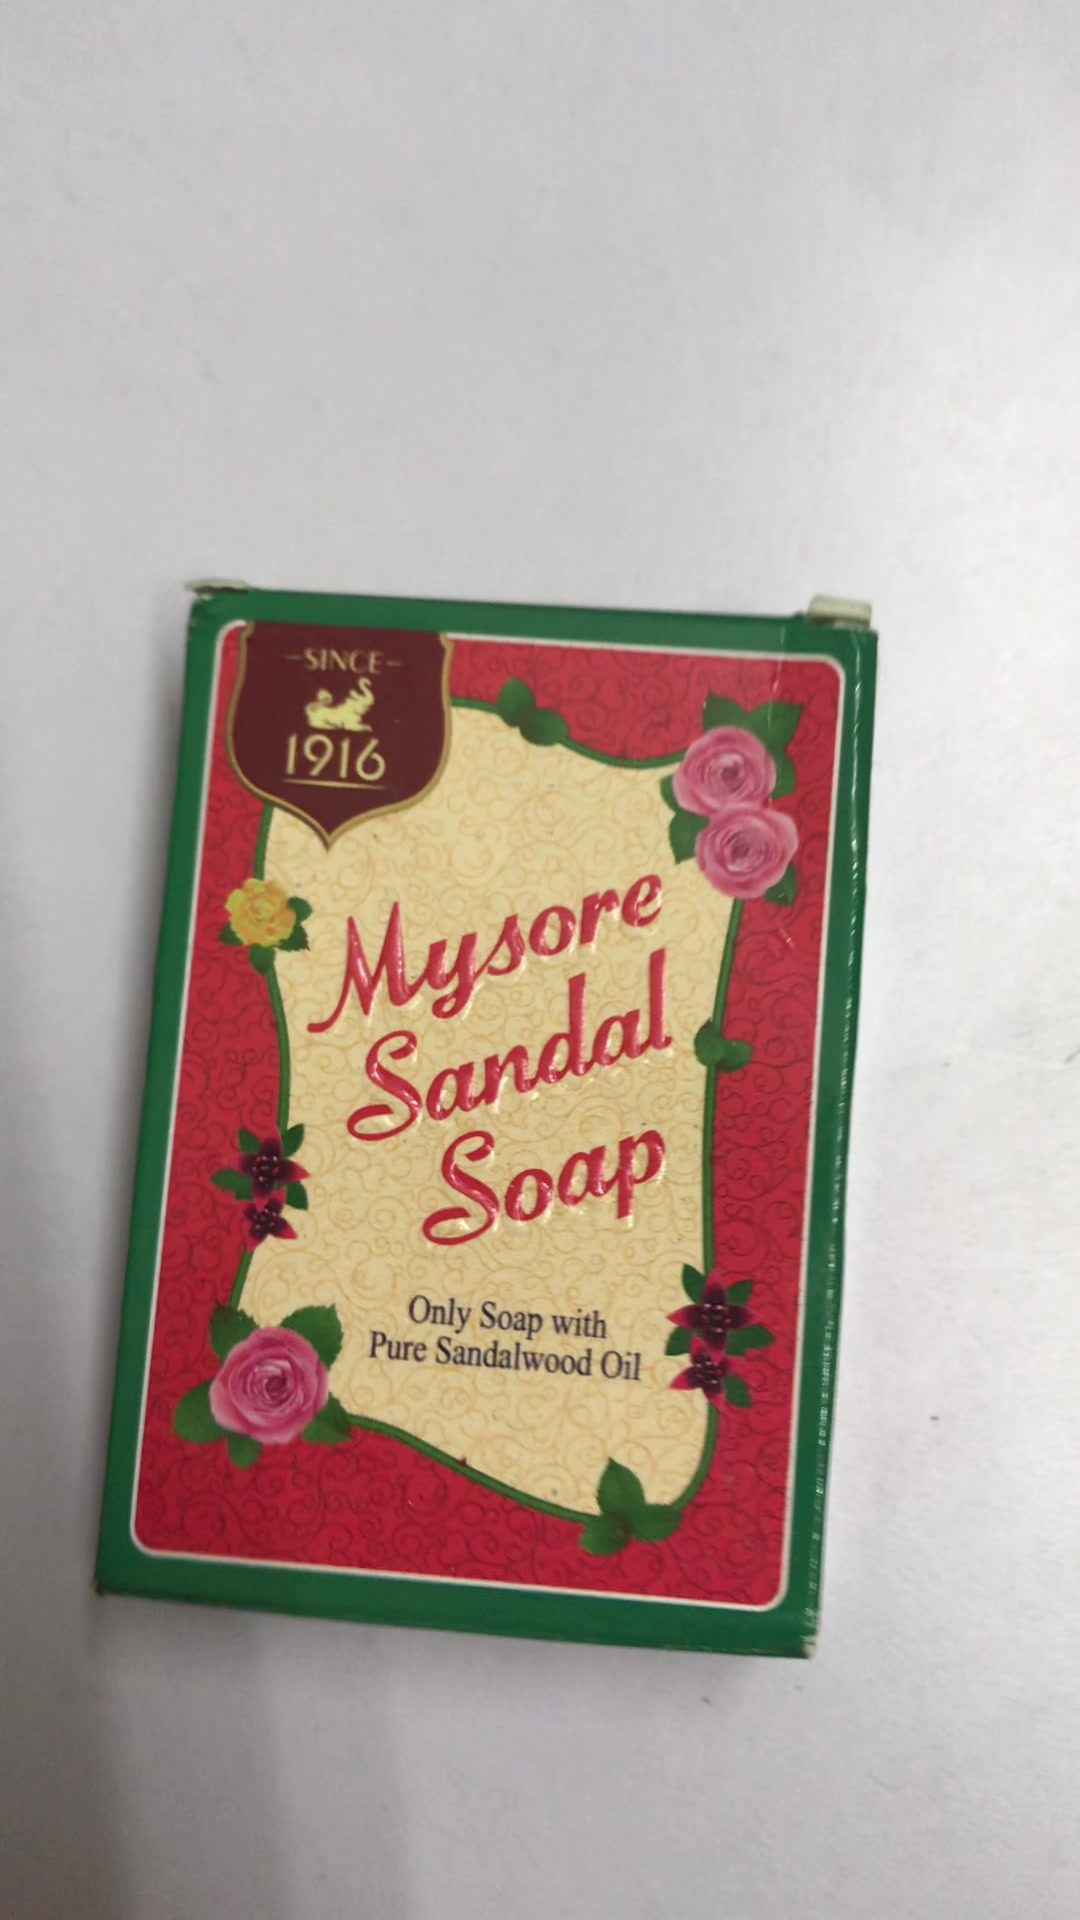mysore sandal soap: (88, 593, 880, 1658)
